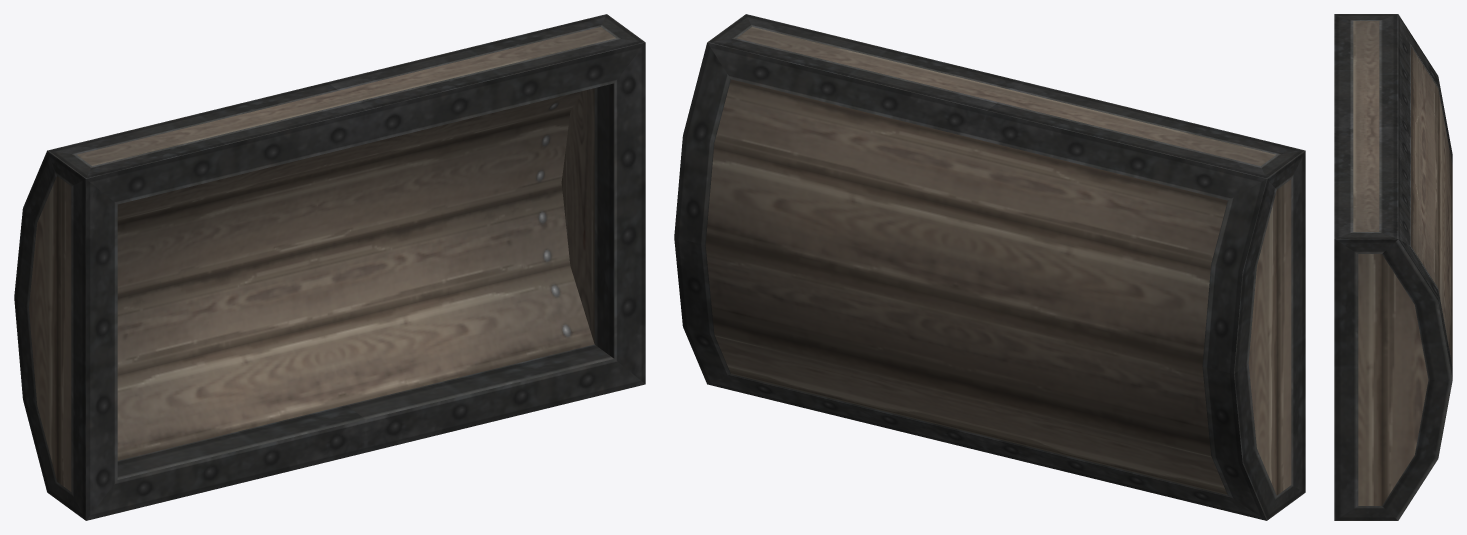
File: Chest_A_Metal_Top.fbx
3 renders of one model, left to right at view 1: azimuth 30°, elevation 25°; view 2: azimuth 150°, elevation 25°; view 3: azimuth 270°, elevation 25°, orthographic. The views are drawn at different scales.
Visible parts, largest first — view 1: Chest_A_Metal_Top; view 2: Chest_A_Metal_Top; view 3: Chest_A_Metal_Top.
Part boxes in pixels (left/top/right/bottom): Chest_A_Metal_Top: left=14, top=14, right=645, bottom=520; Chest_A_Metal_Top: left=674, top=14, right=1305, bottom=520; Chest_A_Metal_Top: left=1334, top=14, right=1452, bottom=520.
Bounding box in the file's own units: 1.25 × 0.7272 × 0.277.
